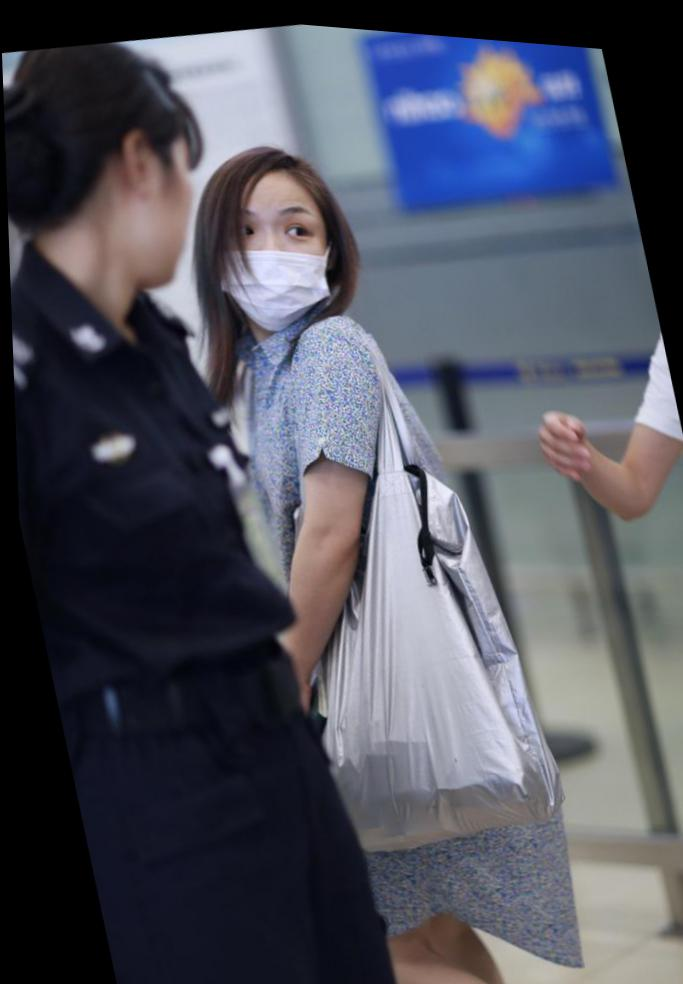NONE: (119, 139, 217, 295)
OK: (205, 173, 343, 338)
